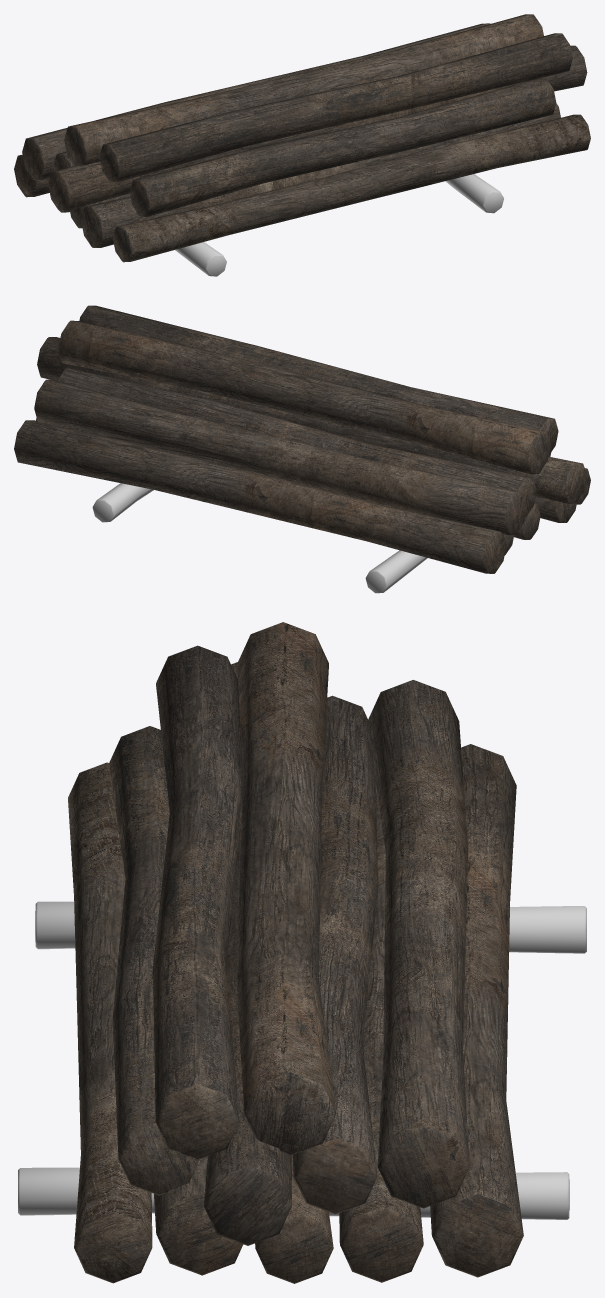
File: Pile_Wood1.FBX
3 renders of one model, top to bottom at view 1: azimuth 30°, elevation 25°; view 2: azimuth 150°, elevation 25°; view 3: azimuth 270°, elevation 25°, orthographic. The views are drawn at different scales.
Visible parts, largest first — view 1: Mesh; view 2: Mesh; view 3: Mesh.
Boxes of the visible parts, box(x1,y1,x2,y2) form: Mesh: box(14, 14, 590, 276); Mesh: box(14, 305, 590, 593); Mesh: box(18, 622, 586, 1283).
Bounding box in the file's own units: 333 × 158 × 76.46.
